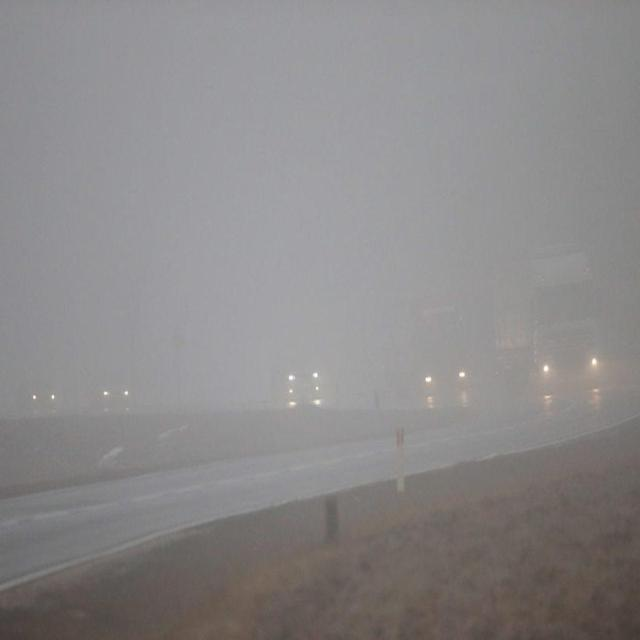Truck: (534, 240, 608, 420), (410, 262, 487, 429), (19, 326, 67, 447), (88, 322, 144, 423), (284, 306, 328, 405)
